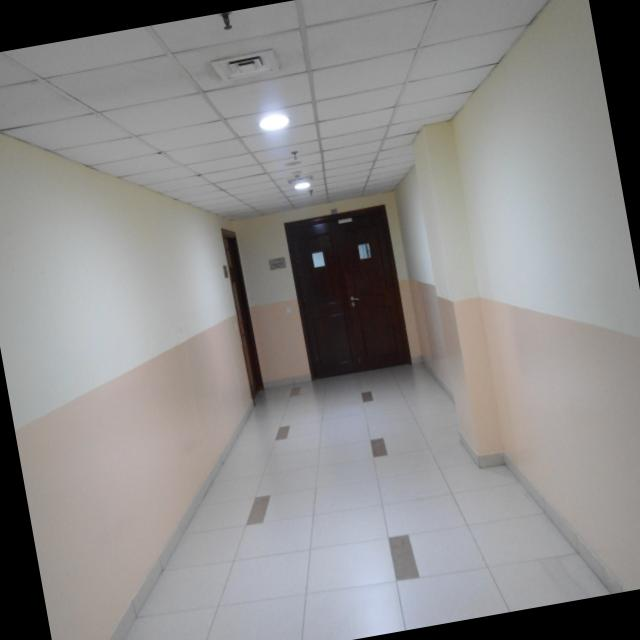door: (275, 202, 415, 386), (218, 224, 266, 396)
wall: (395, 0, 640, 593), (0, 134, 259, 640), (222, 193, 424, 391)
